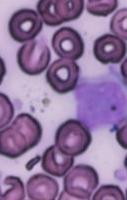M: (71, 74, 126, 132)
